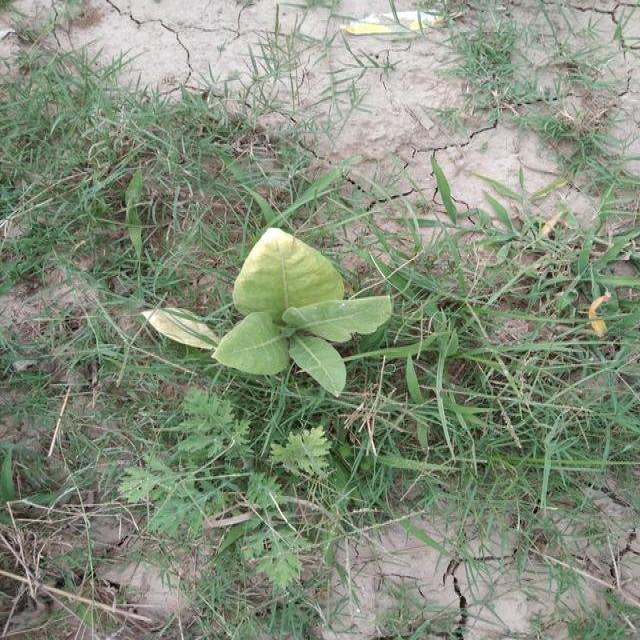crop: (140, 220, 394, 406)
